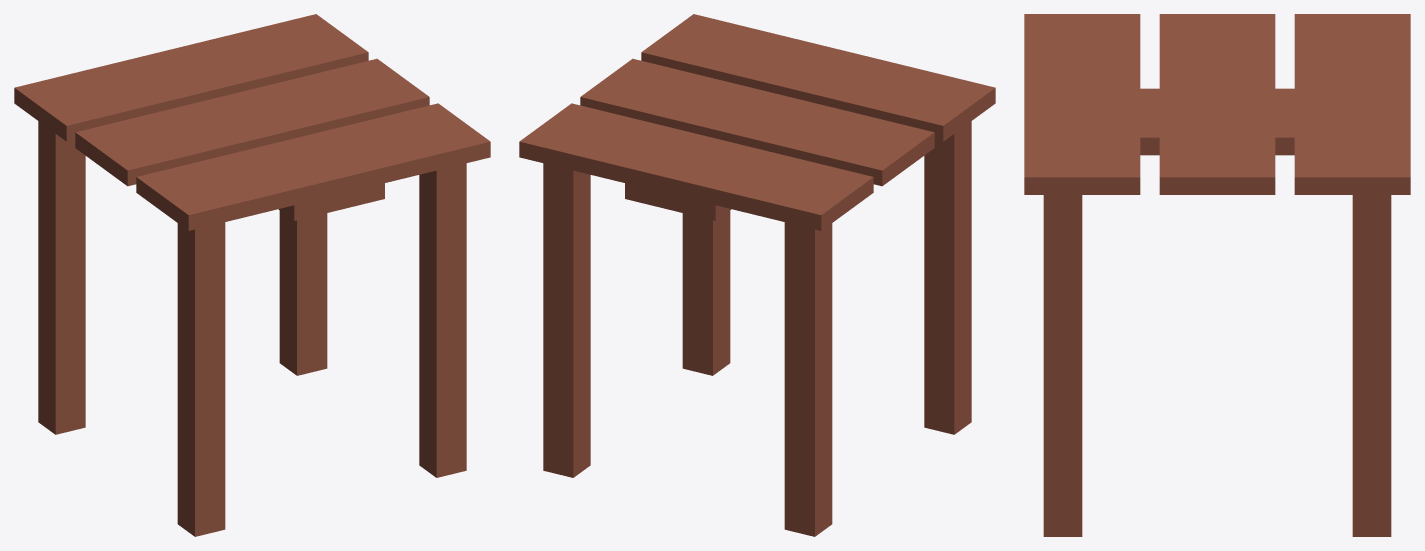
The model's file is scaffold_small_medium 1.fbx.
3 renders of one model, left to right at view 1: azimuth 30°, elevation 25°; view 2: azimuth 150°, elevation 25°; view 3: azimuth 270°, elevation 25°, orthographic. The views are drawn at different scales.
Parts seen in each view (by area): view 1: scaffold_small_medium; view 2: scaffold_small_medium; view 3: scaffold_small_medium.
Boxes of the visible parts, x1,y1,x2,y2 form: scaffold_small_medium: (14,14,490,536); scaffold_small_medium: (519,14,995,536); scaffold_small_medium: (1024,14,1410,536).
Size of the model in its own units: 200 by 210 by 200.
